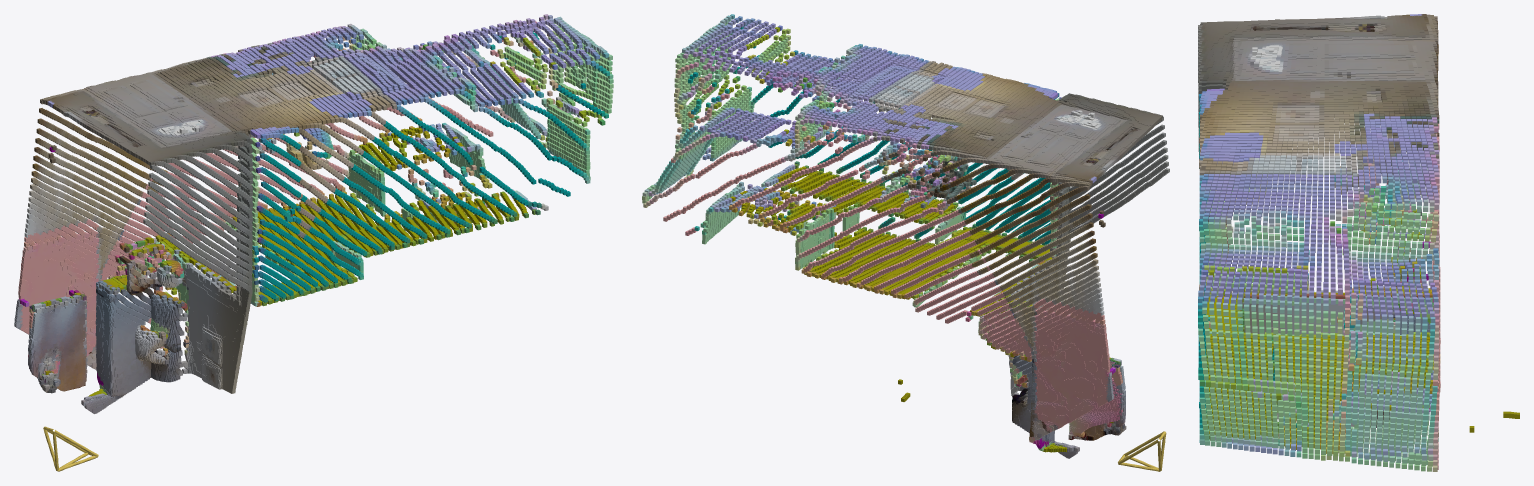
3 views of the same model, side by side, from view 1: azimuth 30°, elevation 25°; view 2: azimuth 150°, elevation 25°; view 3: azimuth 270°, elevation 25° (orthographic). The views are drawn at different scales.
Bounding box in the file's own units: 7.58 × 4.72 × 3.29.
